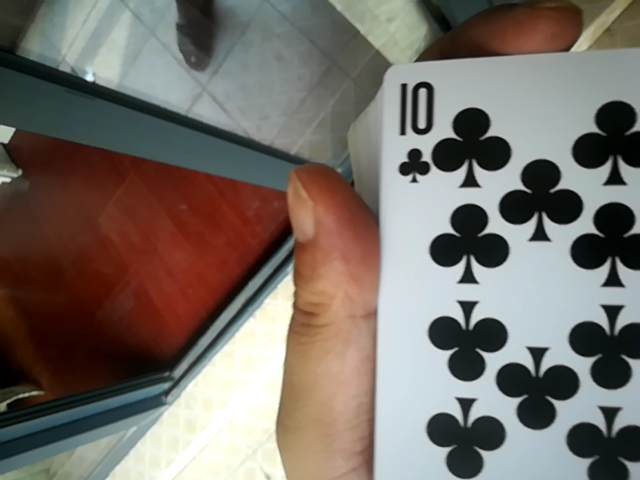mh 10: (370, 40, 640, 479)
